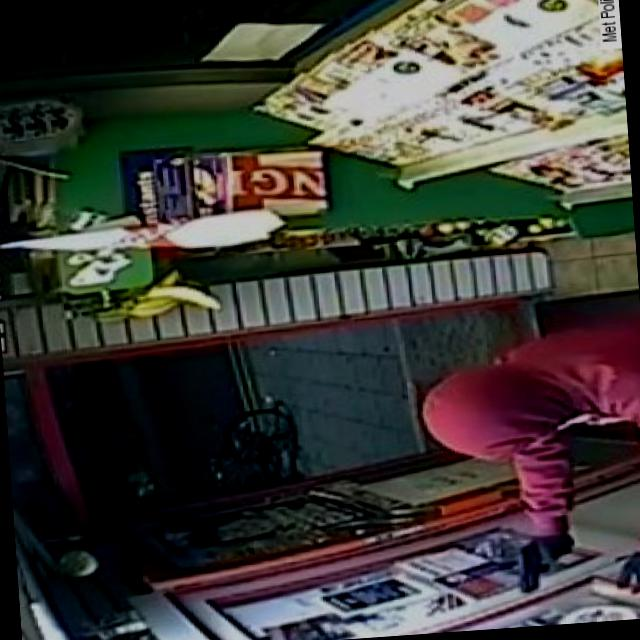handgun: (514, 532, 580, 594)
